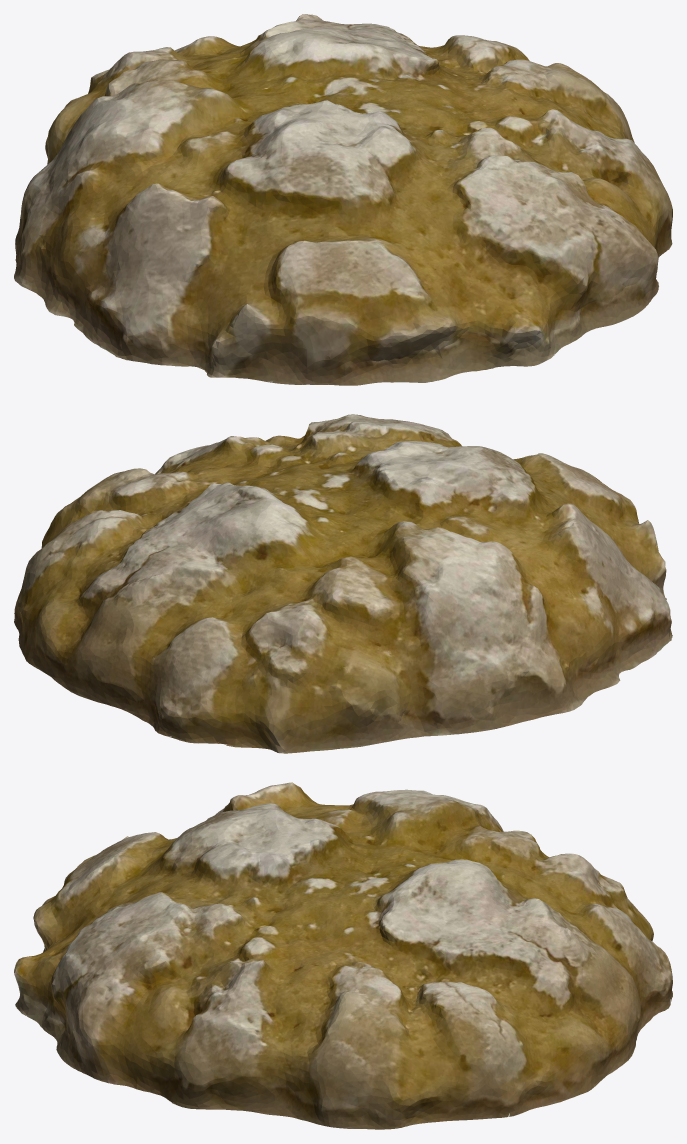
File: lemon-crinkle-cookies.gltf
3 views of the same model, one above another, from view 1: azimuth 30°, elevation 25°; view 2: azimuth 150°, elevation 25°; view 3: azimuth 270°, elevation 25° (orthographic). The views are drawn at different scales.
Size of the model in its own units: 0.4994 by 0.13 by 0.5248.
Materials: 1 (1 with a texture image).
